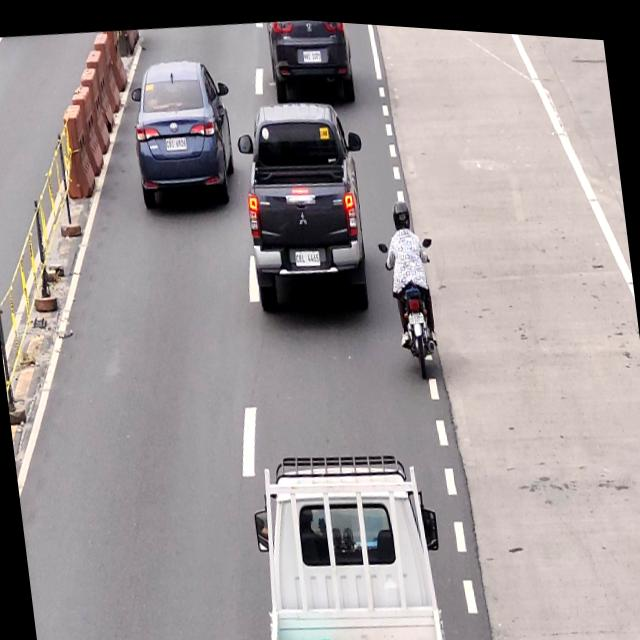Car: (238, 93, 372, 317), (125, 48, 235, 211), (263, 14, 356, 110)
License-Plate: (292, 243, 322, 266), (163, 130, 188, 151), (300, 42, 322, 63), (404, 303, 426, 323)
Motorcycle: (384, 189, 445, 377)
Truck: (250, 437, 442, 640)
